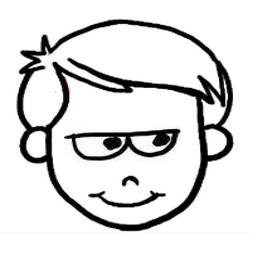ear: (200, 123, 240, 164), (9, 124, 48, 165)
eye: (69, 120, 130, 161), (129, 129, 184, 160)
mouth: (86, 187, 172, 212)
nose: (115, 166, 145, 189)
